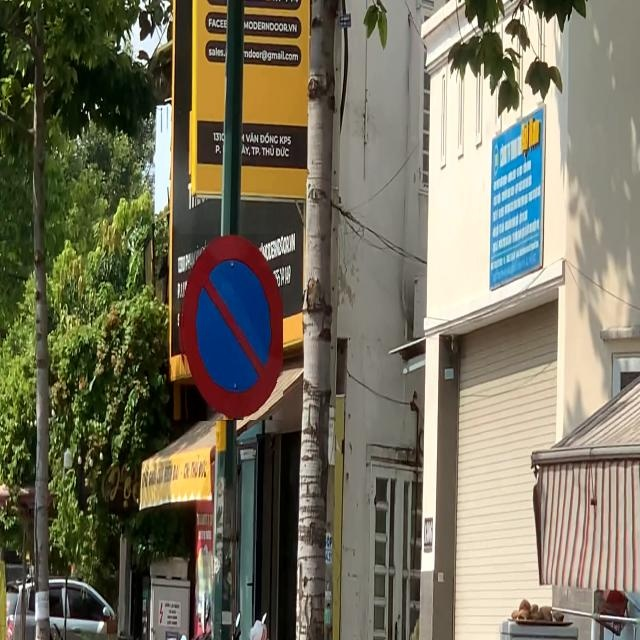bien_cam: (179, 234, 283, 421)
